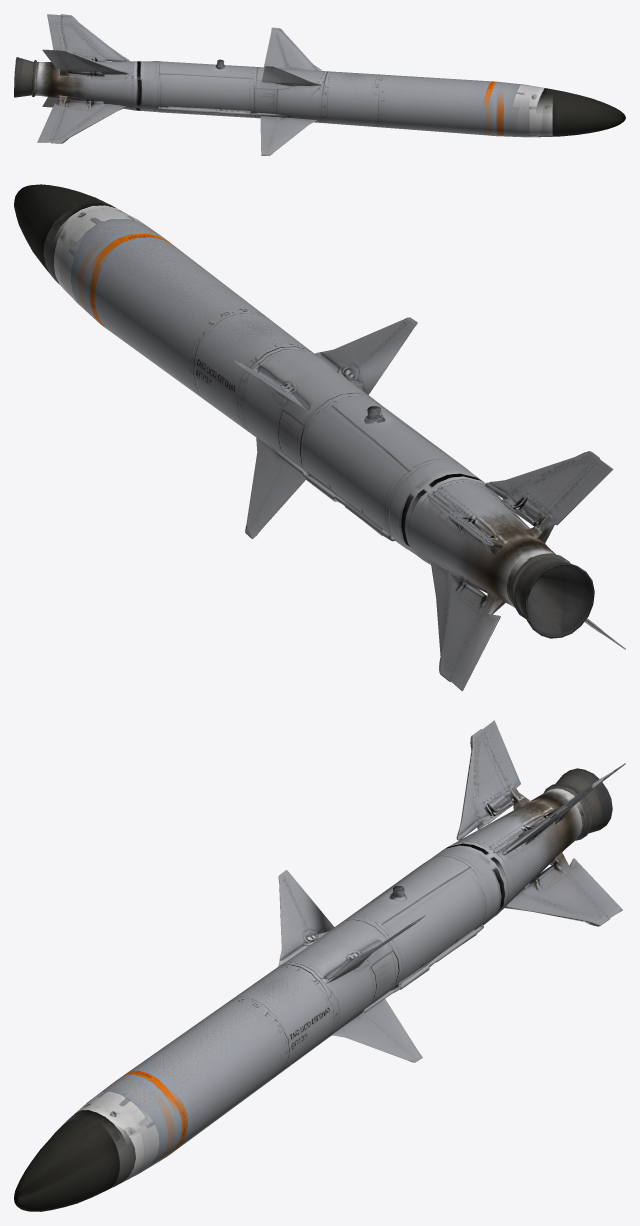
File: ship_missile.glb
3 views of the same model, one above another, from view 1: azimuth 30°, elevation 25°; view 2: azimuth 150°, elevation 25°; view 3: azimuth 270°, elevation 25° (orthographic). The views are drawn at different scales.
Parts seen in each view (by area): view 1: f0326d02-ef9b-47de-a1a3-44385f56c429; view 2: f0326d02-ef9b-47de-a1a3-44385f56c429; view 3: f0326d02-ef9b-47de-a1a3-44385f56c429.
Boxes of the visible parts, box(x1,y1,x2,y2) form: f0326d02-ef9b-47de-a1a3-44385f56c429: box(14, 14, 625, 155); f0326d02-ef9b-47de-a1a3-44385f56c429: box(14, 184, 625, 691); f0326d02-ef9b-47de-a1a3-44385f56c429: box(14, 720, 625, 1211).
Bounding box in the file's own units: 0.9995 × 0.2153 × 0.6987.
1 material, 1 textured.
